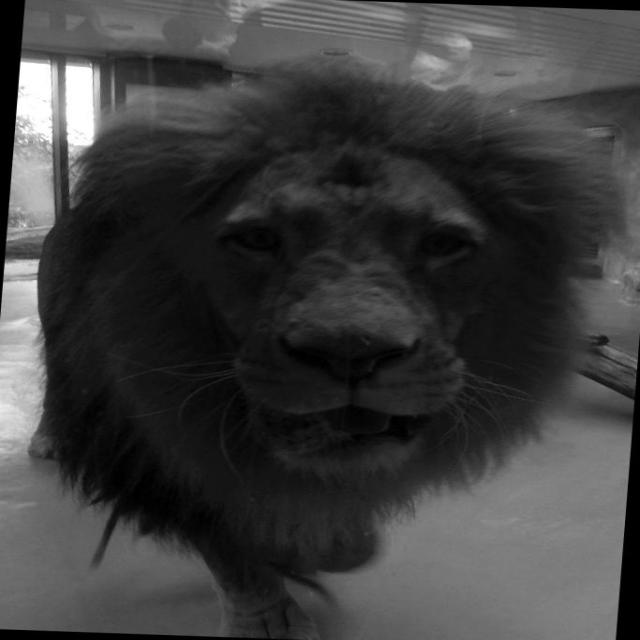Lion: (9, 42, 639, 640)
